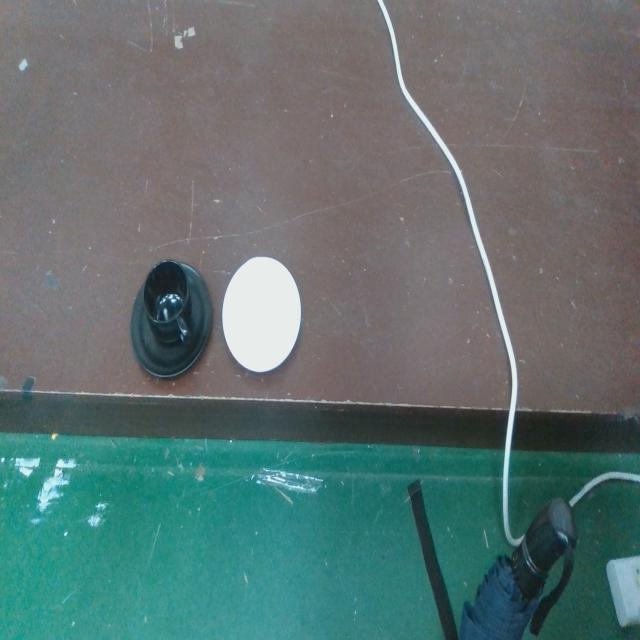black: (130, 257, 215, 382)
white: (220, 253, 303, 377)
